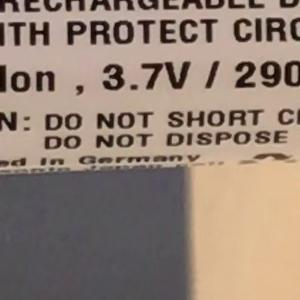3.7V: (92, 51, 196, 101)
